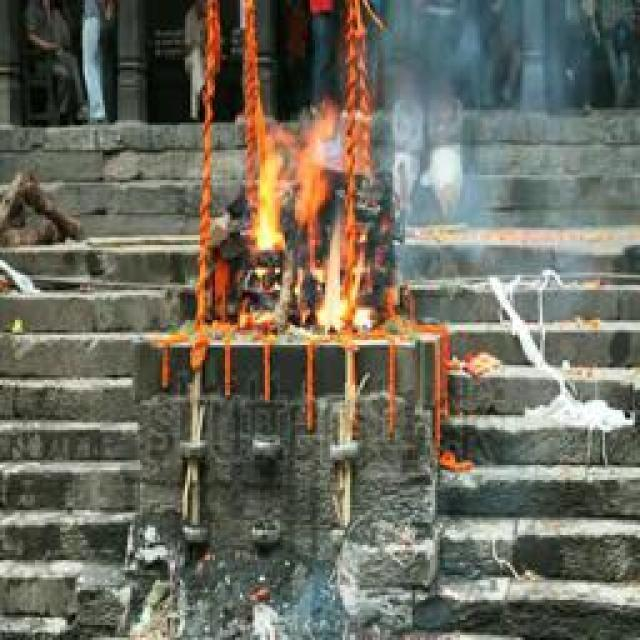Fire: (244, 103, 372, 332)
